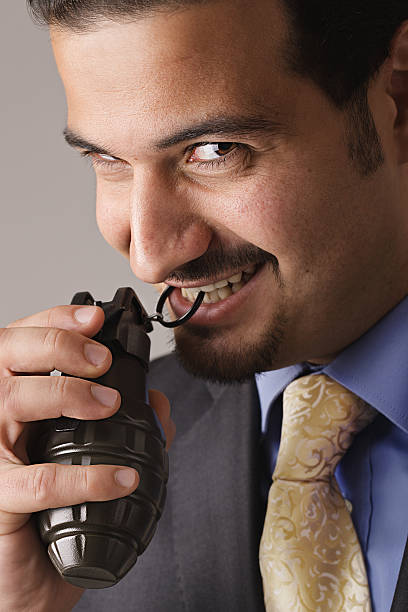e1: (27, 287, 204, 590)
